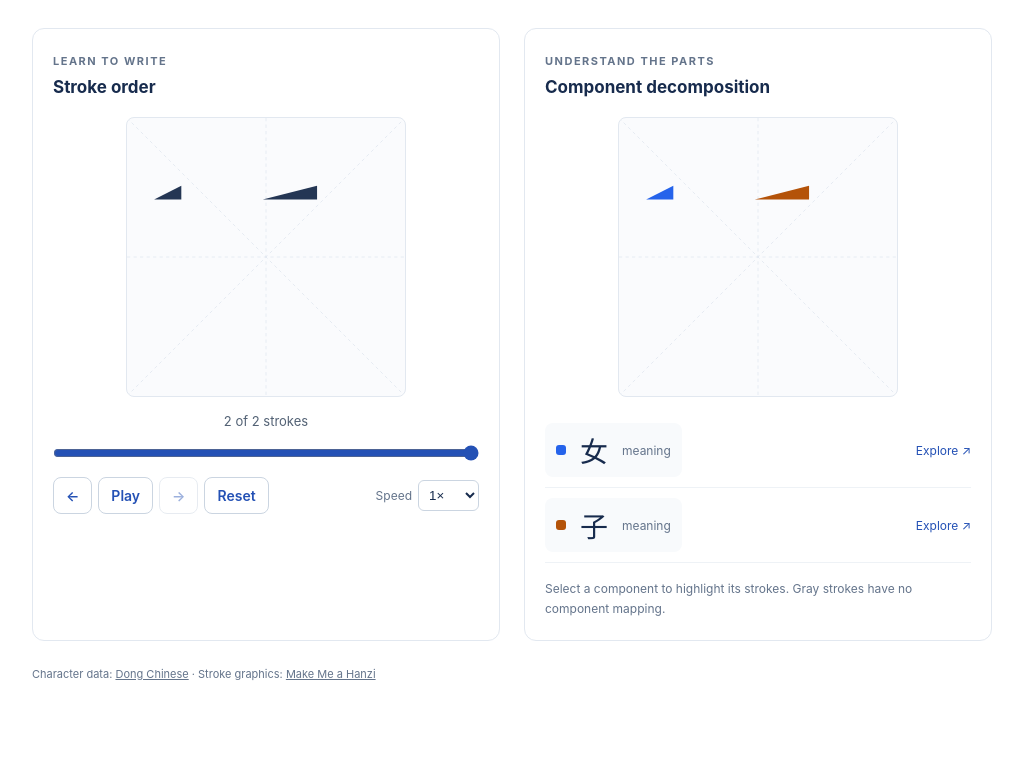
Test: plays, pauses, changes speed and completes the stroke animation
Click the button with aria-label "Play stroke order": (126, 496) [98,477,153,514]
Wait 400 ms
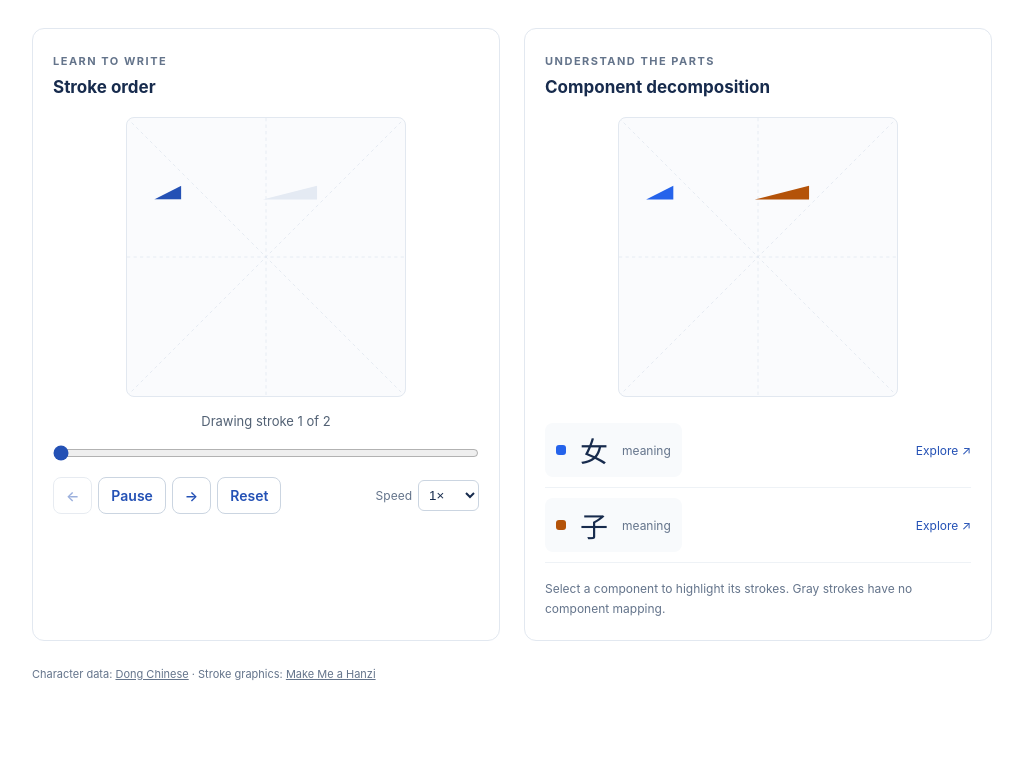
Now the message reads "Drawing stroke 1 of 2", box [201,413,331,429]
Click the button with aria-label "Pause stroke order": (132, 496) [98,477,166,514]
Wait 1500 ms
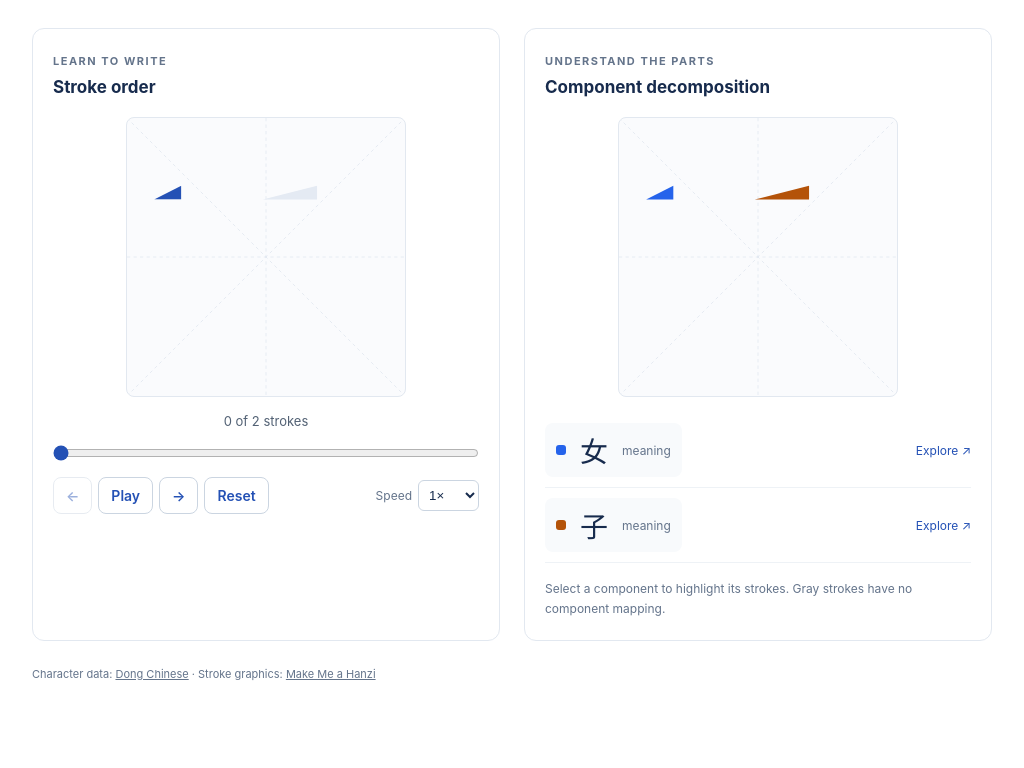
Now the message reads "0 of 2 strokes", box [224,413,308,429]
Select "2×" in the dropdown labelled "Speed": (448, 496) [418,480,479,511]
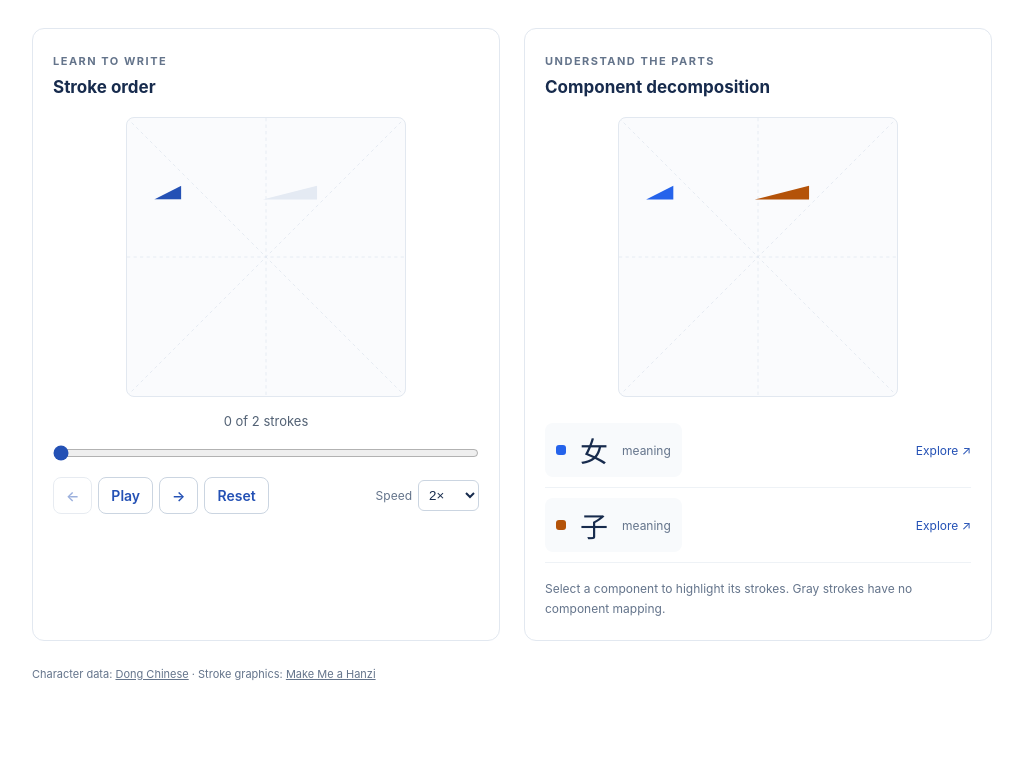
Click the button with aria-label "Play stroke order": (126, 496) [98,477,153,514]
Wait 2000 ms
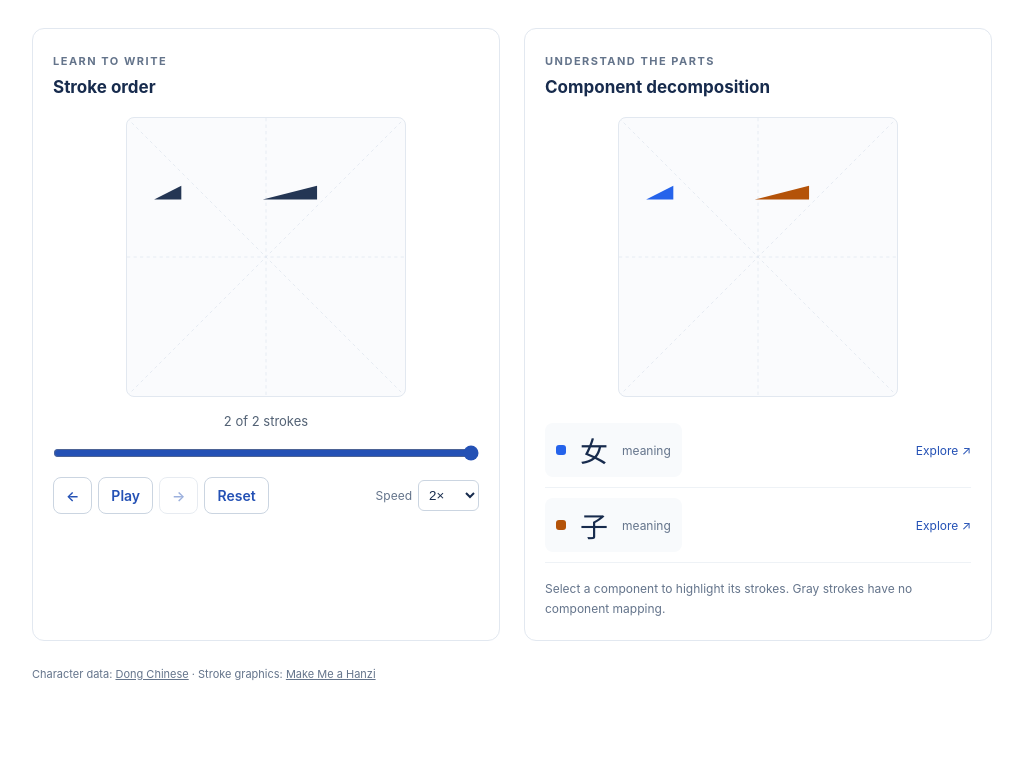
Now the button with aria-label "Play stroke order" is shown, box [98,477,153,514]
Now the message reads "2 of 2 strokes", box [224,413,308,429]
